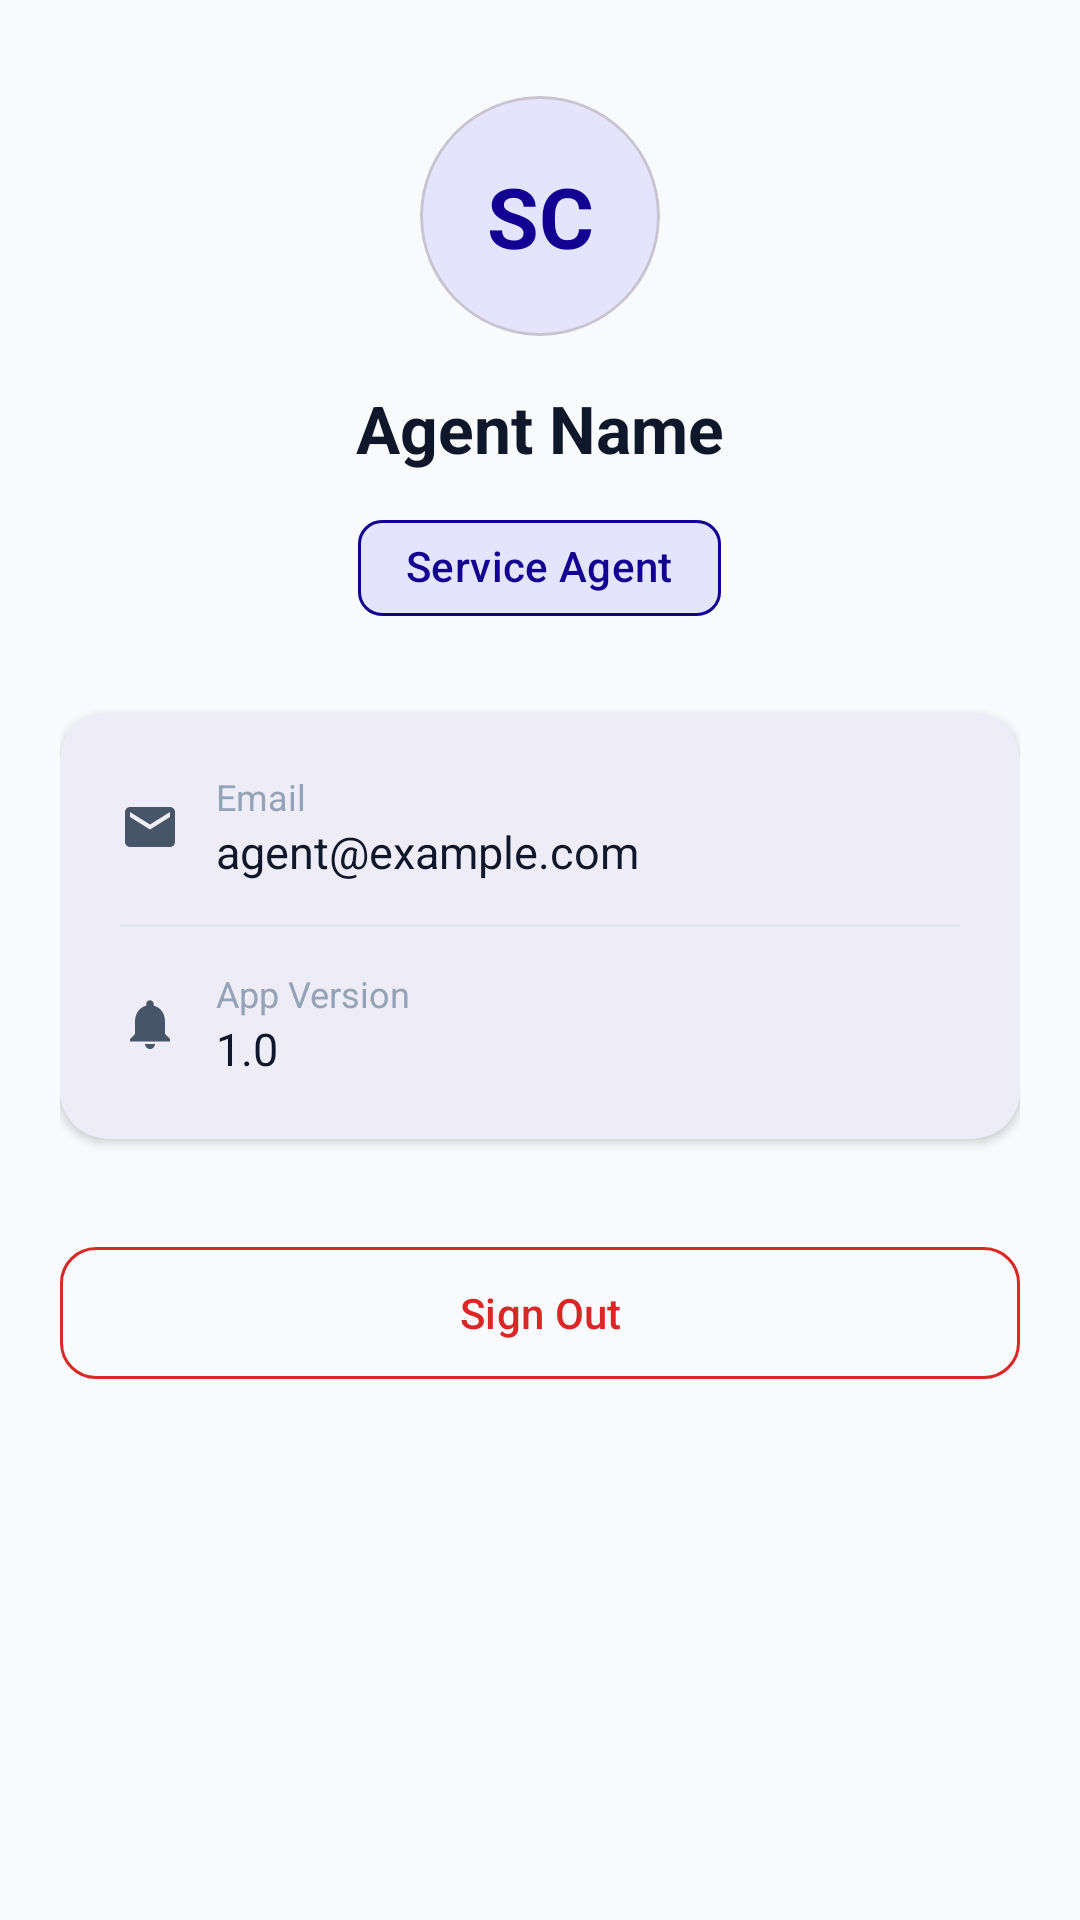

Named icons in this screenshot (1080w x 1920h) and their centers, [x,y]:
notification: [150,1024]
